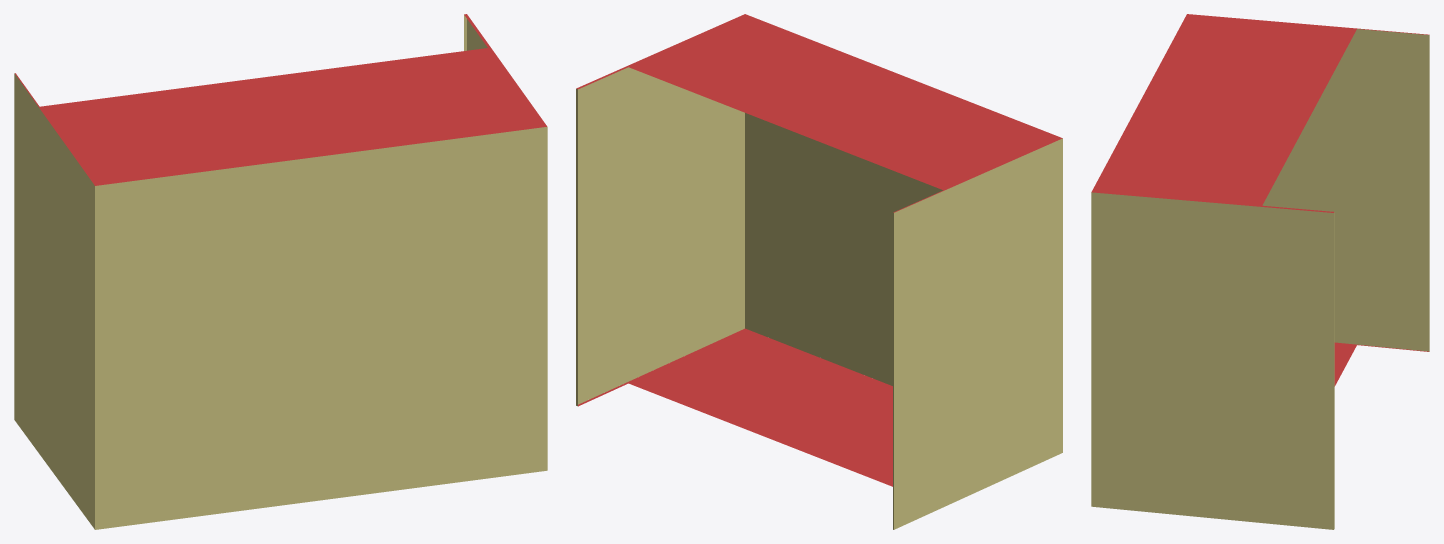
3 views of the same model, side by side, from view 1: azimuth 30°, elevation 25°; view 2: azimuth 150°, elevation 25°; view 3: azimuth 270°, elevation 25° (orthographic). The views are drawn at different scales.
Visible parts, largest first — view 1: group_4, group_3; view 2: group_4, group_3, group_5; view 3: group_4, group_3, group_5.
Boxes of the visible parts, box(x1,y1,x2,y2) form: group_4: box(14, 15, 547, 529); group_3: box(15, 14, 546, 185); group_4: box(576, 67, 1062, 529); group_3: box(576, 14, 1062, 212); group_5: box(578, 328, 892, 486); group_4: box(1091, 29, 1429, 529); group_3: box(1091, 14, 1429, 212); group_5: box(1334, 342, 1428, 386).
Size of the model in its own units: 9.04 by 6.41 by 6.63.
